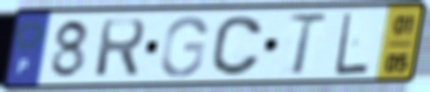8: (48, 18, 92, 81)
C: (208, 13, 265, 78)
G: (158, 14, 210, 79)
L: (333, 10, 371, 78)
R: (92, 16, 148, 79)
T: (286, 11, 330, 78)
